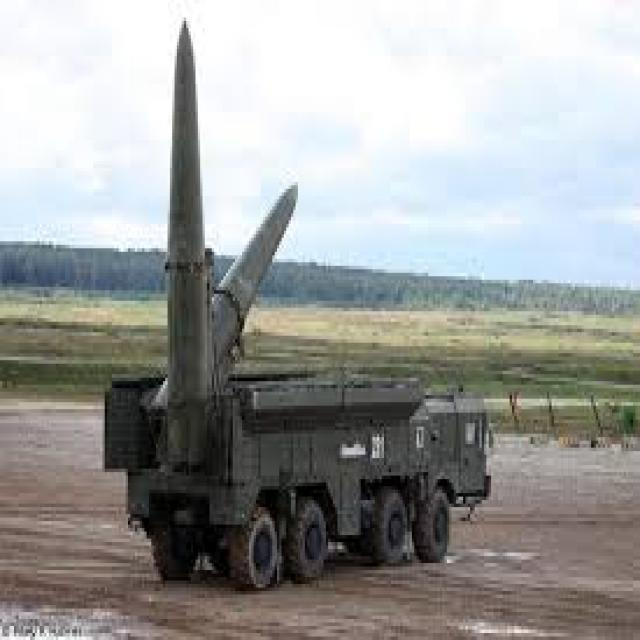Missile: (161, 10, 217, 397)
